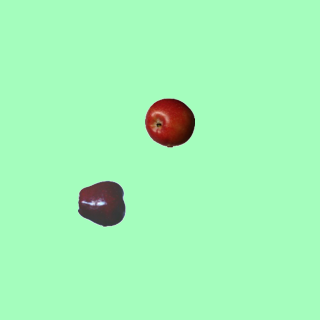Apple Braeburn: (144, 97, 194, 147)
Apple Red Delicious: (77, 178, 127, 228)
